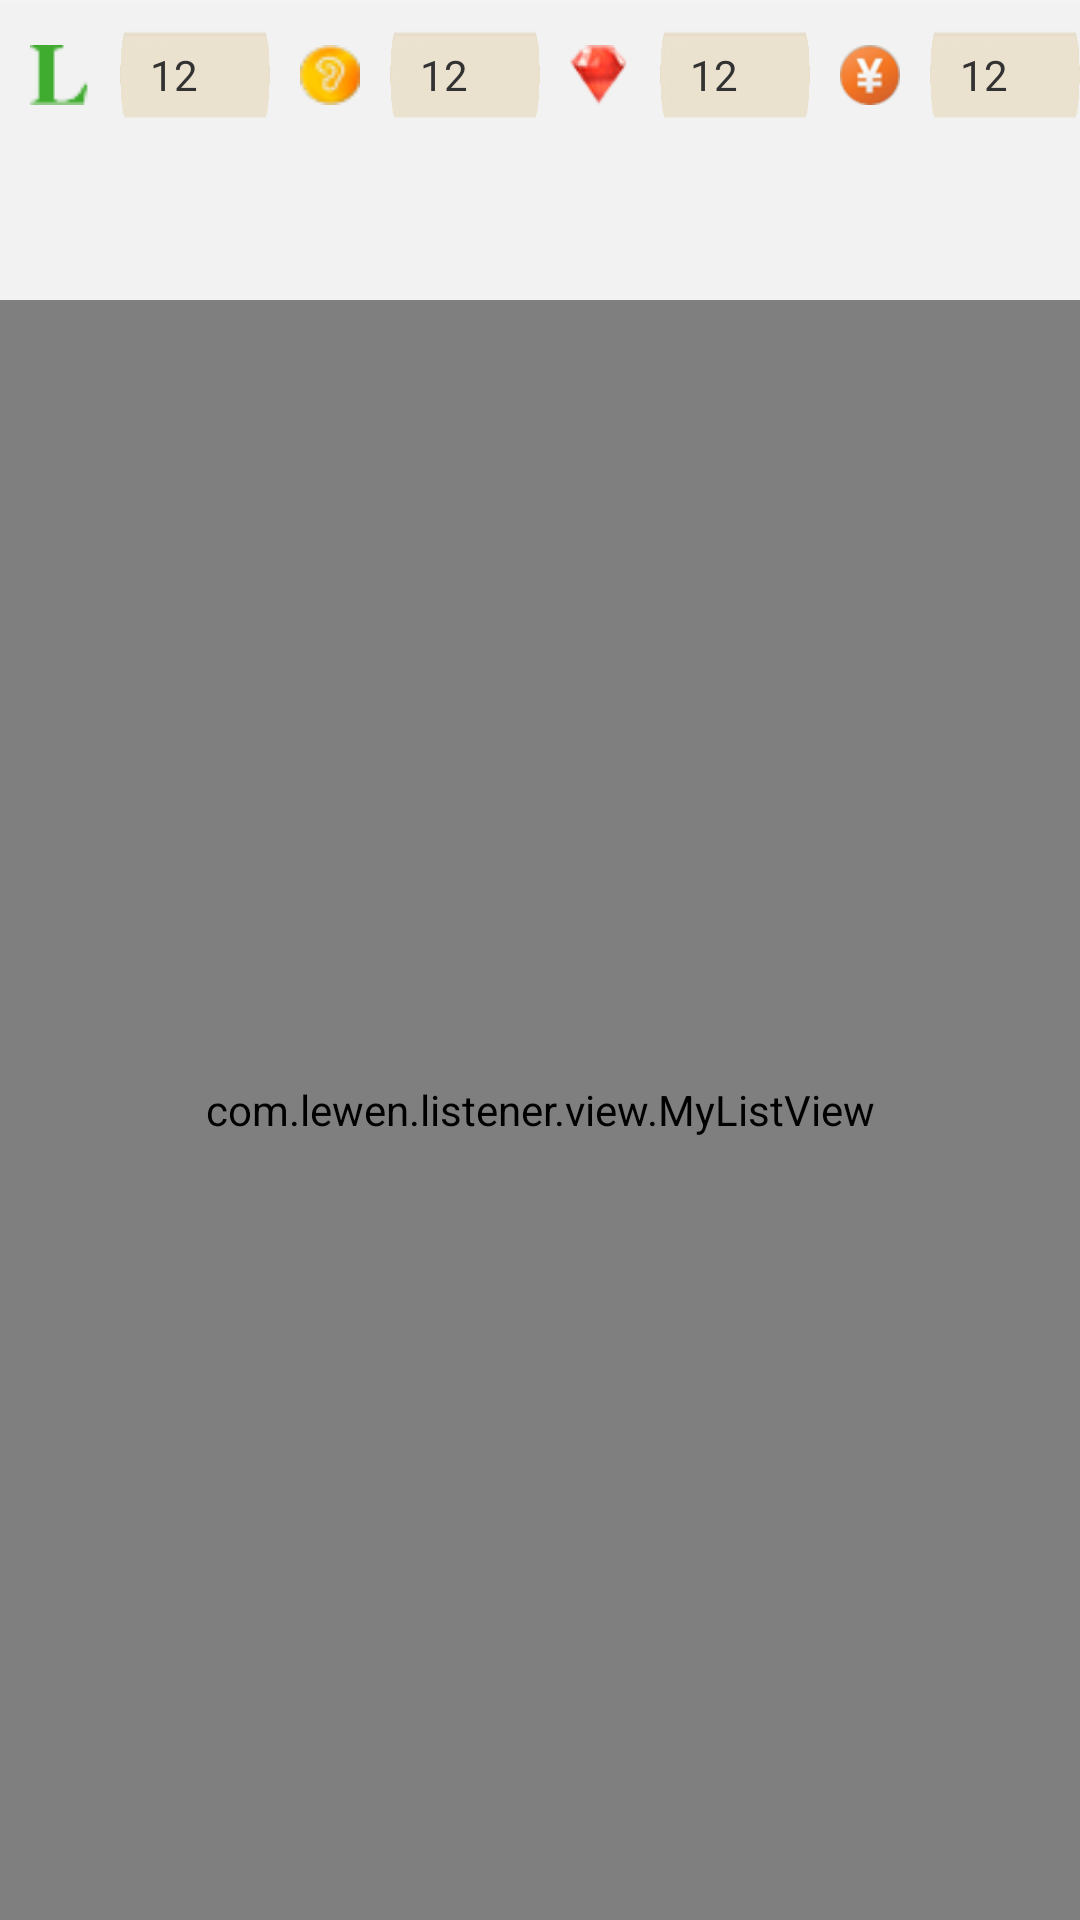

Screen size 1080*1920. Icon name, then its center in pixels as (x=x, y=y):
home hbs: (x=598, y=74)
home rmb: (x=870, y=75)
home tingbi: (x=330, y=75)
level: (x=59, y=75)
